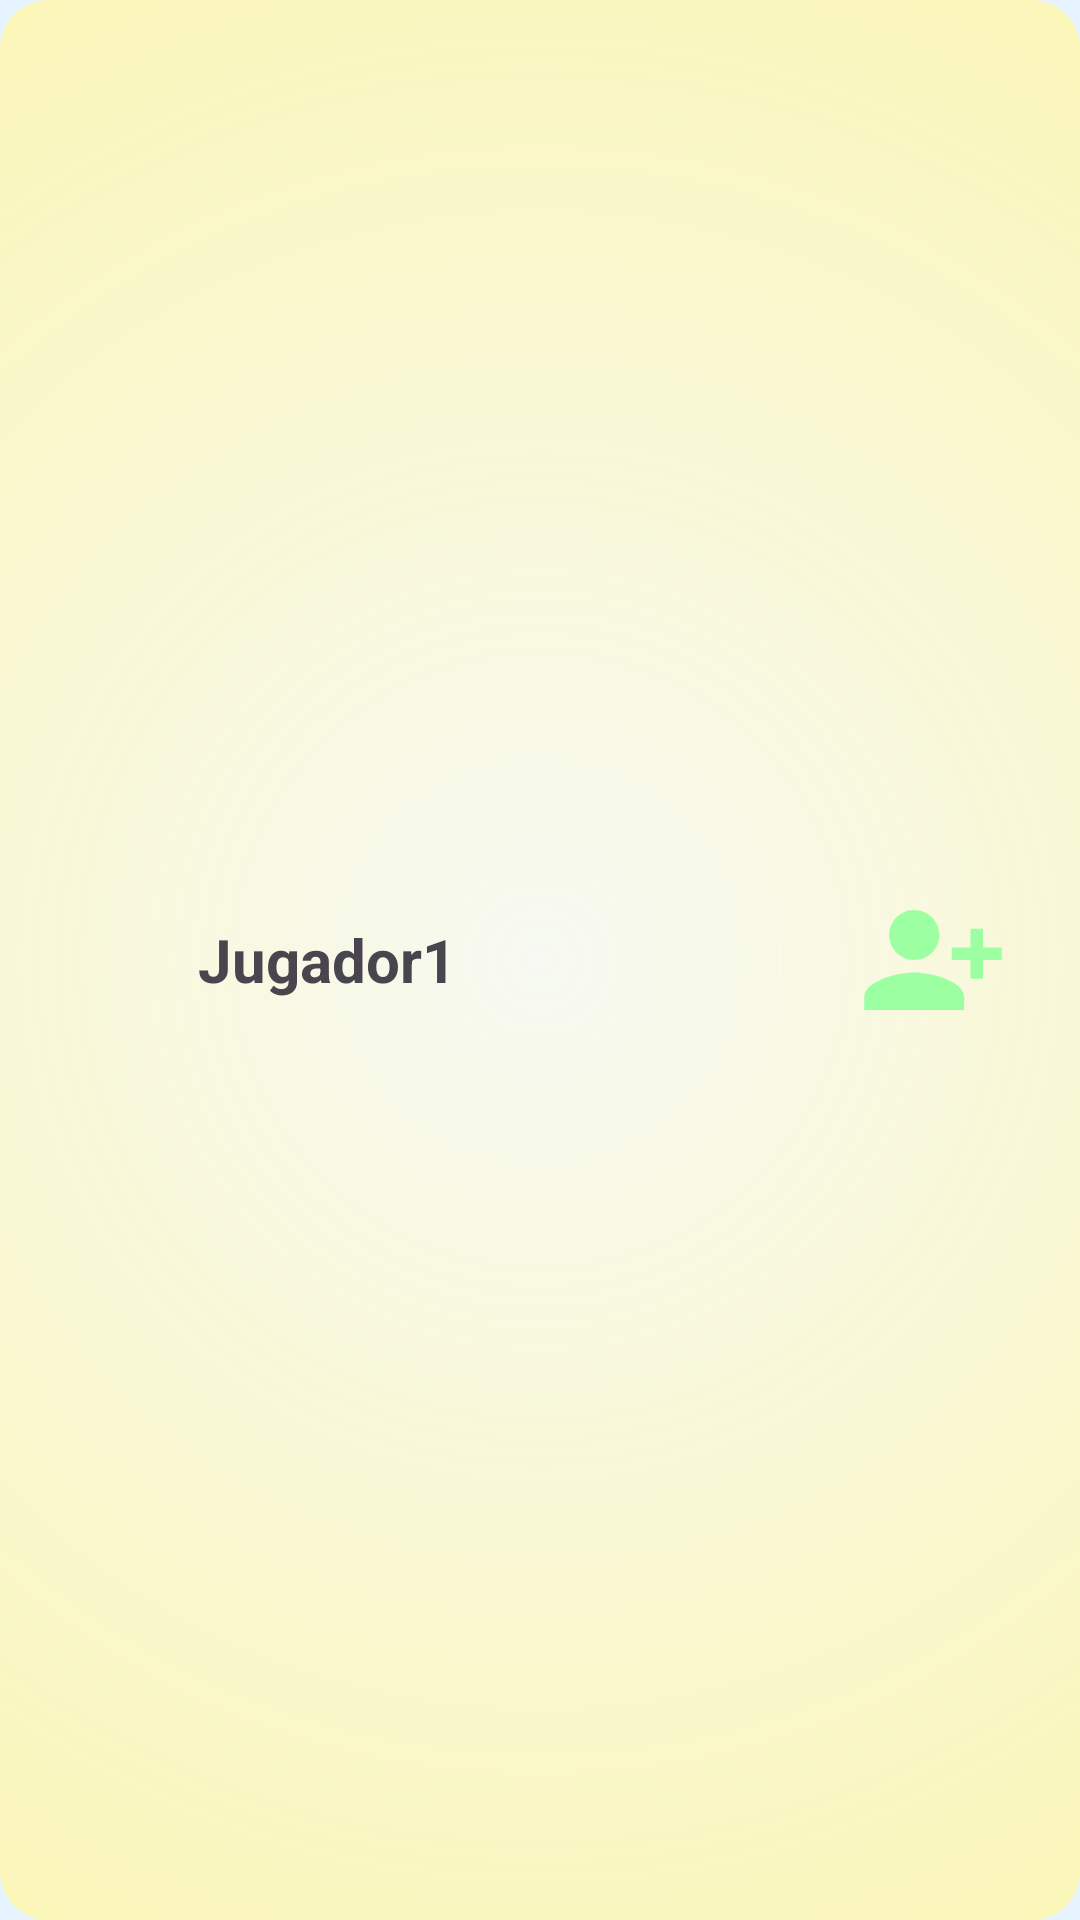

Screen size 1080w x 1920h. Icon name, then its center in pixels as point (x, y):
person add: point (933, 960)
